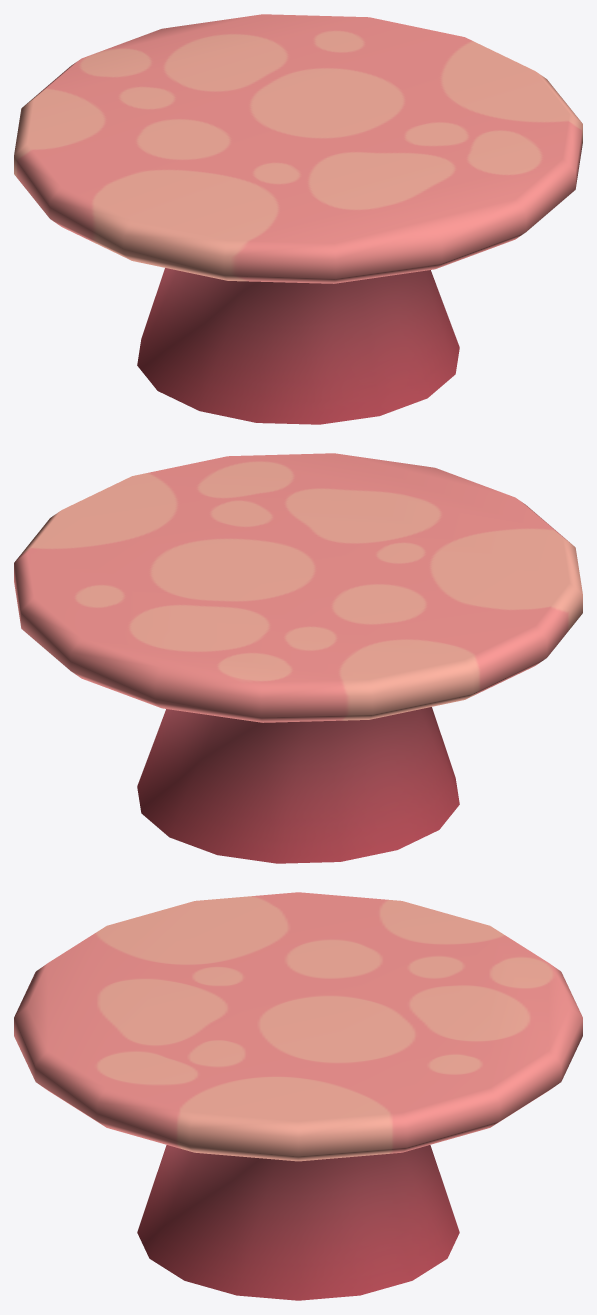
File: Homestead_xkl_1.fbx
3 views of the same model, one above another, from view 1: azimuth 30°, elevation 25°; view 2: azimuth 150°, elevation 25°; view 3: azimuth 270°, elevation 25° (orthographic).
Parts seen in each view (by area): view 1: Homestead_xkl_1; view 2: Homestead_xkl_1; view 3: Homestead_xkl_1.
Boxes of the visible parts, <box> form: Homestead_xkl_1: <box>14,14,582,424</box>; Homestead_xkl_1: <box>14,453,582,863</box>; Homestead_xkl_1: <box>14,892,582,1300</box>.
Size of the model in its own units: 199 by 87.12 by 199.
